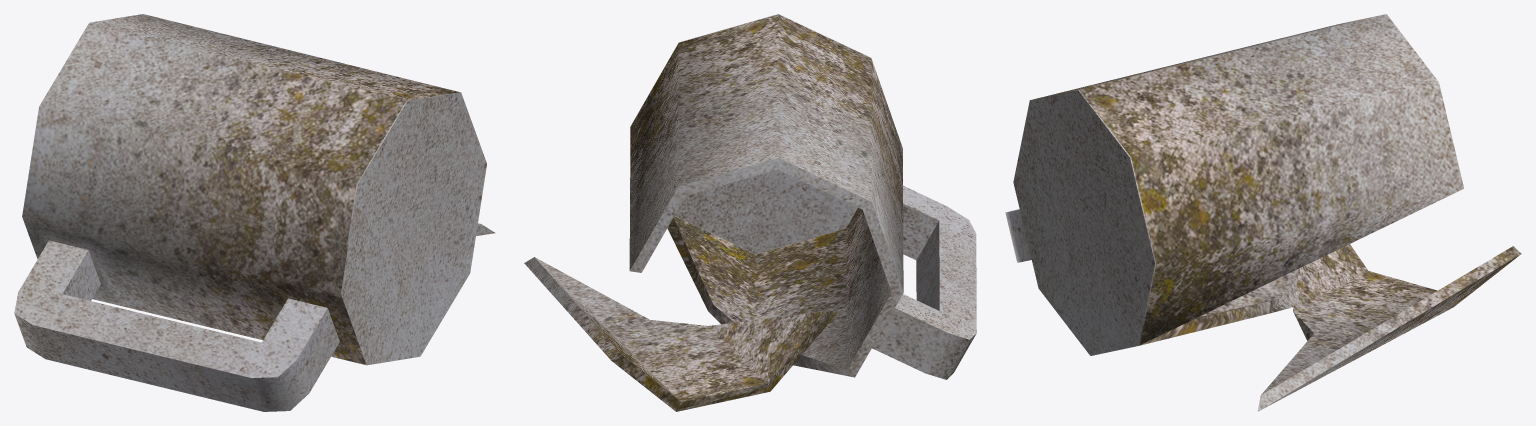
File: BrokenMug1.fbx
3 views of the same model, side by side, from view 1: azimuth 30°, elevation 25°; view 2: azimuth 150°, elevation 25°; view 3: azimuth 270°, elevation 25° (orthographic). The views are drawn at different scales.
Parts seen in each view (by area): view 1: BrokenMug1; view 2: BrokenMug1; view 3: BrokenMug1.
Part boxes in pixels (x1=…): BrokenMug1: x1=14, y1=14, x2=495, y2=411; BrokenMug1: x1=524, y1=14, x2=976, y2=411; BrokenMug1: x1=1005, y1=14, x2=1521, y2=411.
Size of the model in its own units: 3.83 by 2.03 by 3.68.
